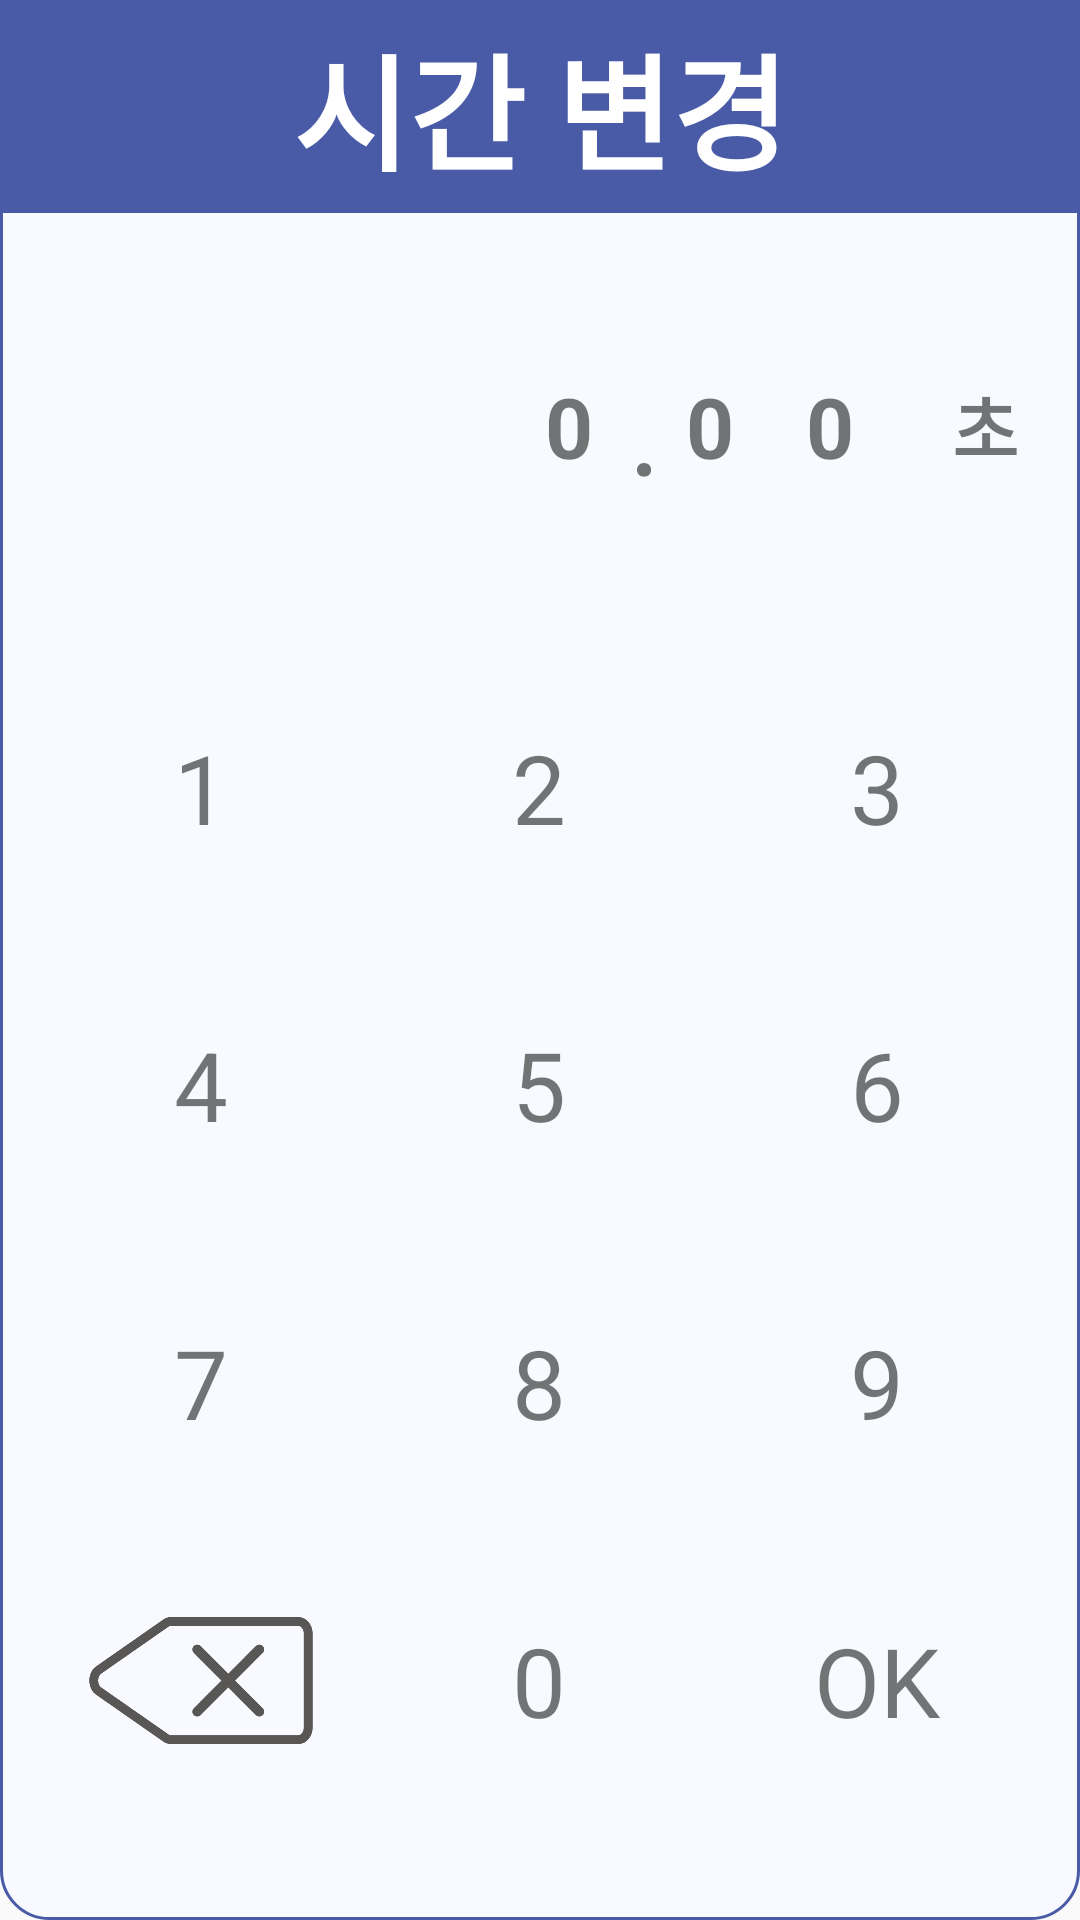

Named icons in this screenshot (1080px x 1920px) and their bounding boxes, (x1, y1, x2, y2):
backpress: (89, 1617, 313, 1744)
